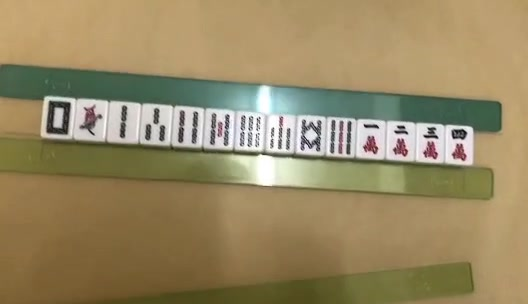1m: (362, 121, 379, 155)
1s: (80, 104, 101, 134)
2m: (392, 124, 410, 154)
2s: (120, 104, 130, 139)
3m: (422, 126, 440, 160)
3s: (141, 107, 167, 140)
4m: (451, 127, 468, 160)
4s: (177, 110, 200, 142)
5s: (207, 112, 231, 145)
5z: (45, 100, 70, 136)
6s: (240, 115, 262, 146)
7s: (268, 117, 292, 151)
8s: (300, 118, 325, 151)
9s: (329, 119, 353, 153)
